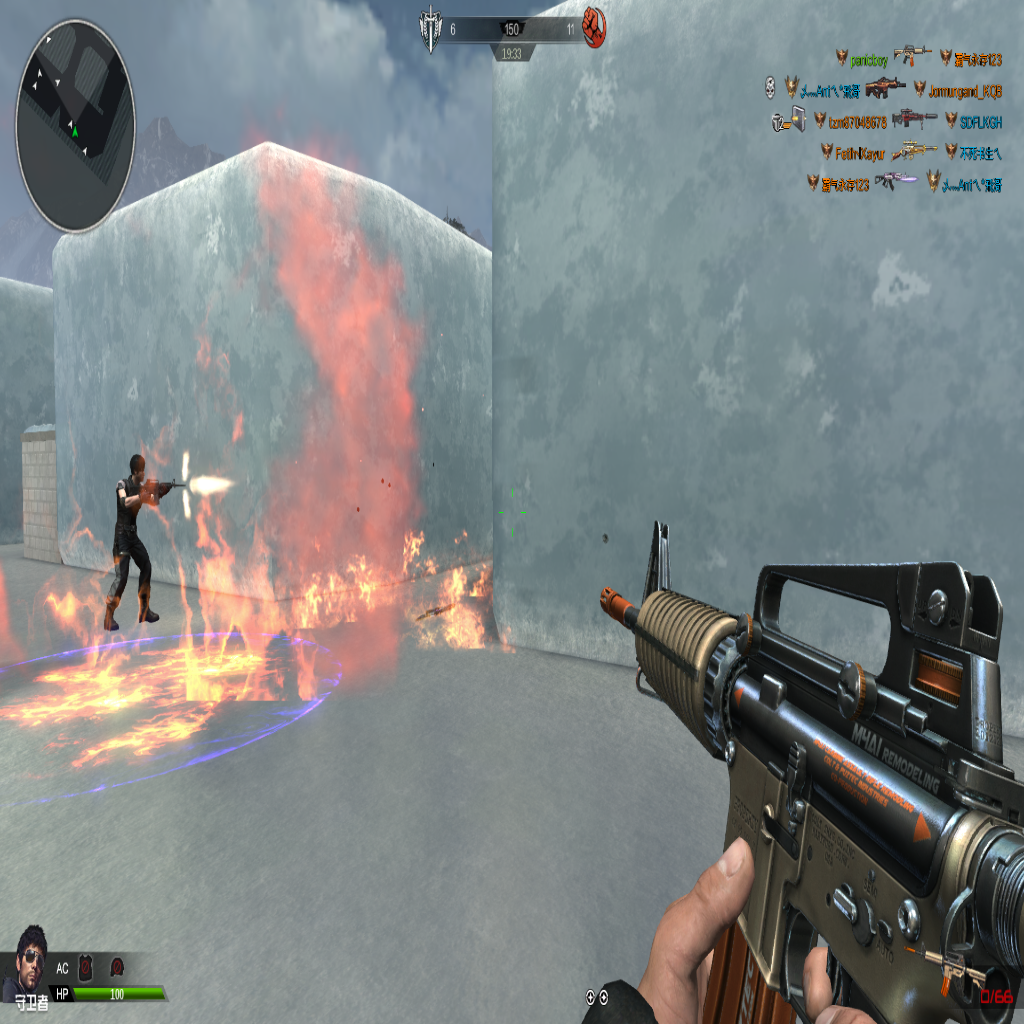ct: (106, 442, 173, 634)
